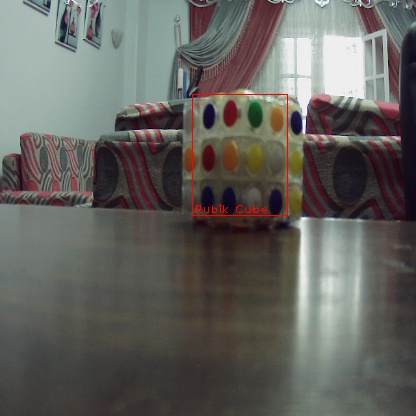Rubix Cube: (183, 92, 308, 228)
